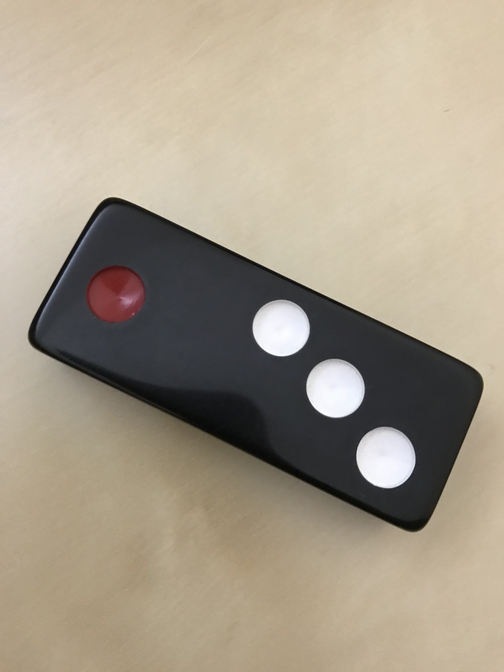goose: (29, 197, 484, 532)
